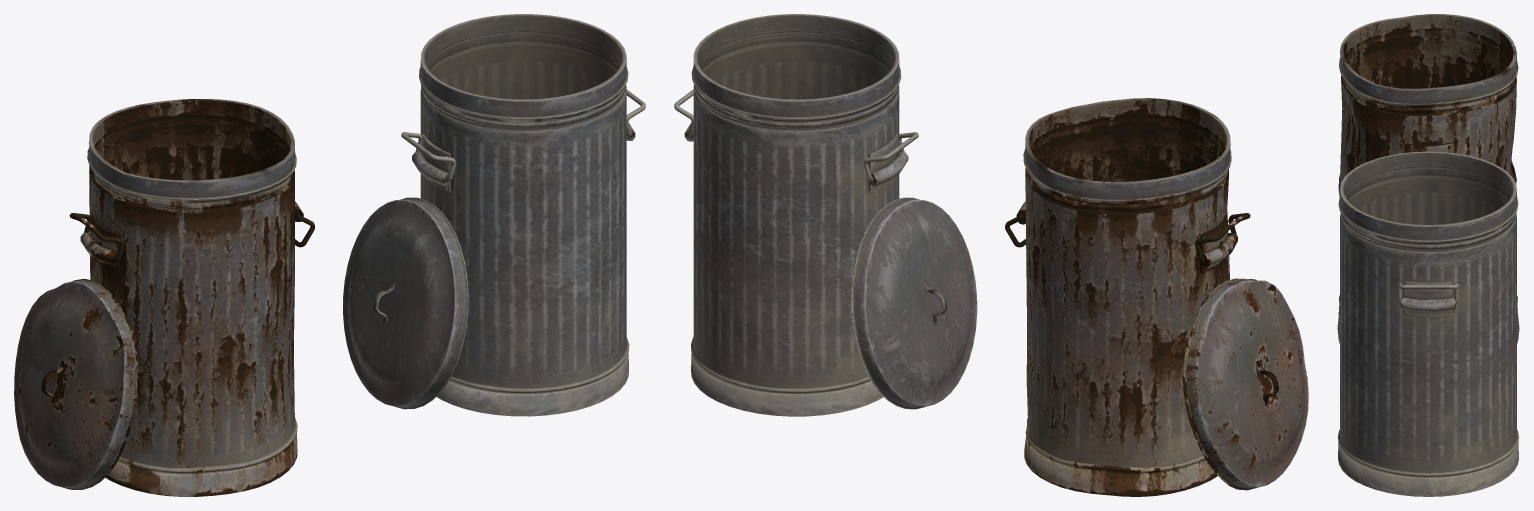
File: metal_trash_can.glb
3 renders of one model, left to right at view 1: azimuth 30°, elevation 25°; view 2: azimuth 150°, elevation 25°; view 3: azimuth 270°, elevation 25°, orthographic. The views are drawn at different scales.
Visible parts, largest first — view 1: metal_trash_can, metal_trash_can_rust, metal_trash_can_lid, metal_trash_can_rust_lid; view 2: metal_trash_can, metal_trash_can_rust, metal_trash_can_lid, metal_trash_can_rust_lid; view 3: metal_trash_can, metal_trash_can_rust, metal_trash_can_handle_right.
Part boxes in pixels (<box>): metal_trash_can: <box>412,14,635,416</box>; metal_trash_can_rust: <box>80,99,303,496</box>; metal_trash_can_lid: <box>343,197,468,409</box>; metal_trash_can_rust_lid: <box>14,279,137,489</box>; metal_trash_can: <box>684,14,908,416</box>; metal_trash_can_rust: <box>1016,98,1237,496</box>; metal_trash_can_lid: <box>851,197,977,409</box>; metal_trash_can_rust_lid: <box>1183,278,1308,490</box>; metal_trash_can: <box>1337,151,1518,496</box>; metal_trash_can_rust: <box>1338,14,1518,316</box>; metal_trash_can_handle_right: <box>1398,283,1458,303</box>.
Bounding box in the file's own units: 1.78 × 0.9062 × 0.5543.
2 materials, 2 textured.
